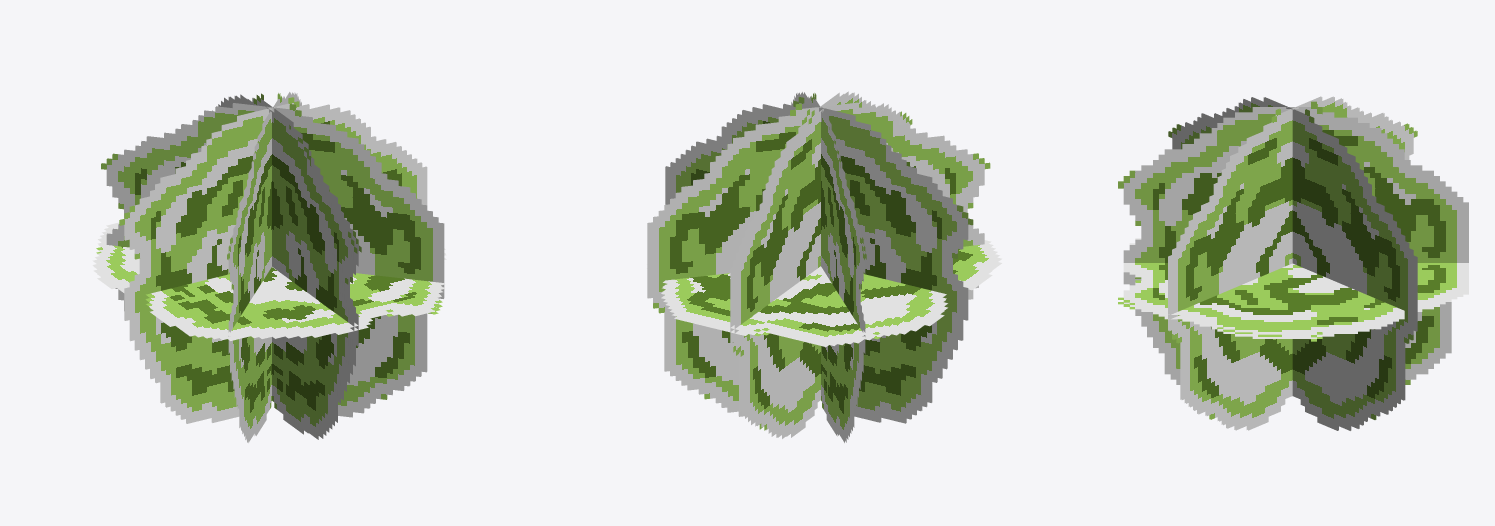
Rendered from Ludah.fbx.
3 views of the same model, side by side, from view 1: azimuth 30°, elevation 25°; view 2: azimuth 150°, elevation 25°; view 3: azimuth 270°, elevation 25° (orthographic).
Visible parts, largest first — view 1: Plane.007; view 2: Plane.007; view 3: Plane.007.
Boxes of the visible parts, box(x1,y1,x2,y2) form: Plane.007: box(92, 92, 446, 442); Plane.007: box(647, 91, 1001, 442); Plane.007: box(1118, 96, 1468, 430).
Size of the model in its own units: 200 by 200 by 200.
1 material, 1 textured.
